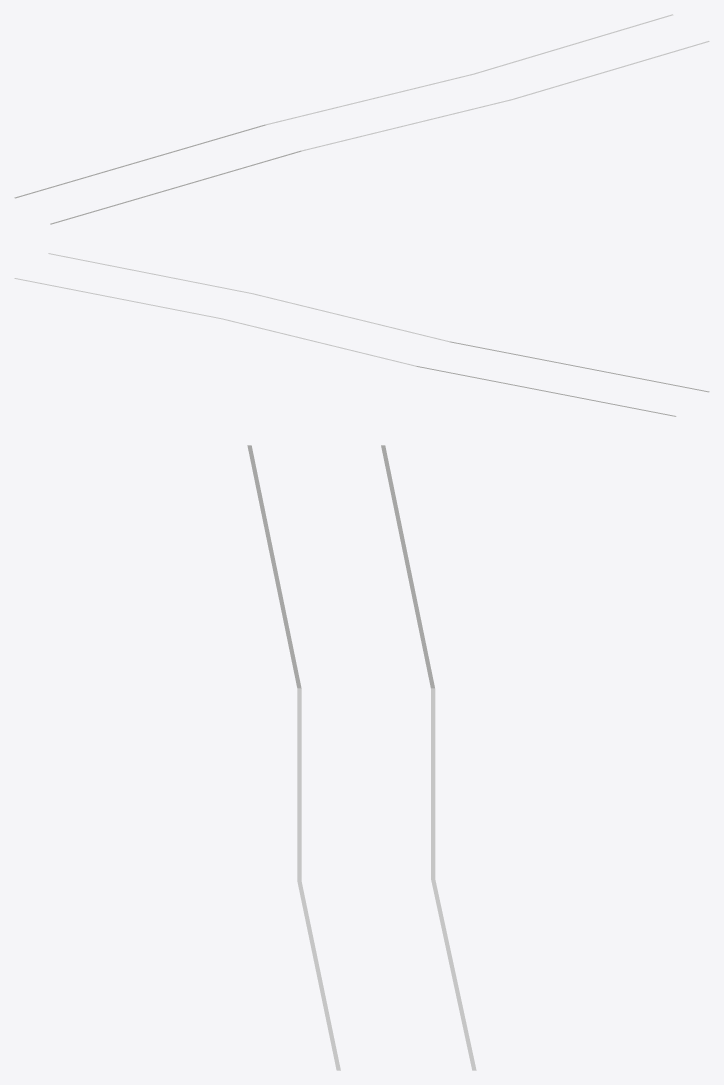
Rendered from kd_stage_135ebf_3_30.glb.
3 renders of one model, top to bottom at view 1: azimuth 30°, elevation 25°; view 2: azimuth 150°, elevation 25°; view 3: azimuth 270°, elevation 25°, orthographic. The views are drawn at different scales.
Visible parts, largest first — view 1: kd_stage_135ebf_3_30; view 2: kd_stage_135ebf_3_30; view 3: kd_stage_135ebf_3_30.
Part boxes in pixels (box(x1,y1,x2,y2)): kd_stage_135ebf_3_30: box(14, 14, 709, 224); kd_stage_135ebf_3_30: box(14, 253, 709, 416); kd_stage_135ebf_3_30: box(247, 445, 476, 1070).
Size of the model in its own units: 68.46 by 0.0988 by 10.64.
1 material, 1 textured.
